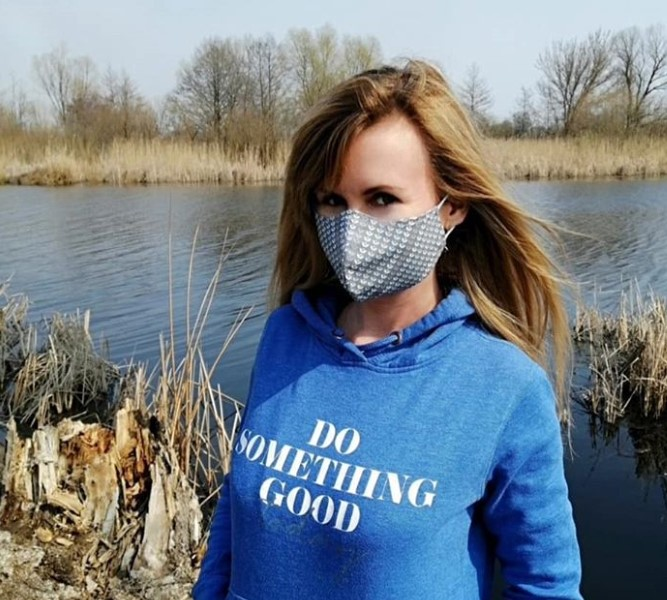face_with_mask: (295, 70, 468, 306)
